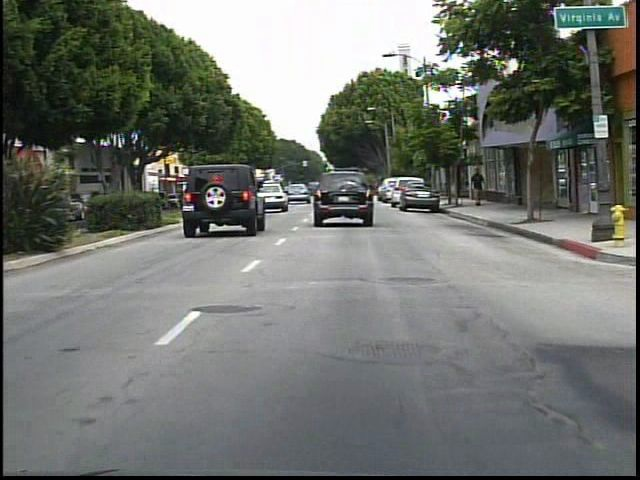person: (467, 167, 488, 209)
